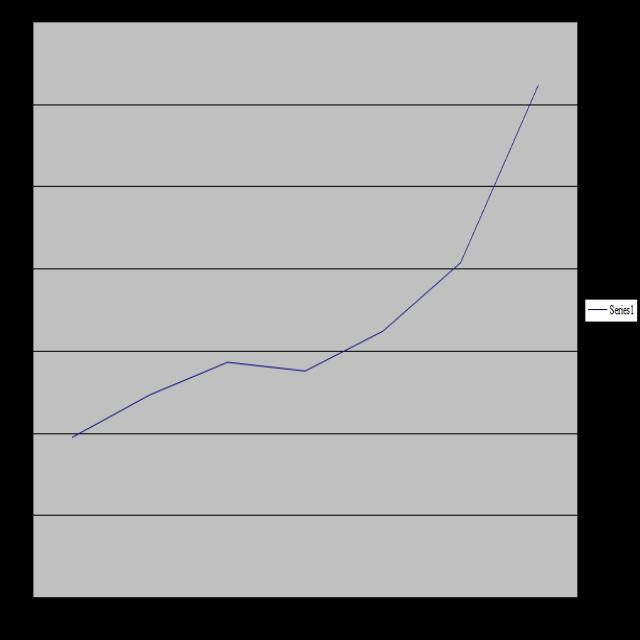axis: (32, 593, 580, 602), (30, 17, 38, 598)
line: (67, 80, 545, 447)
